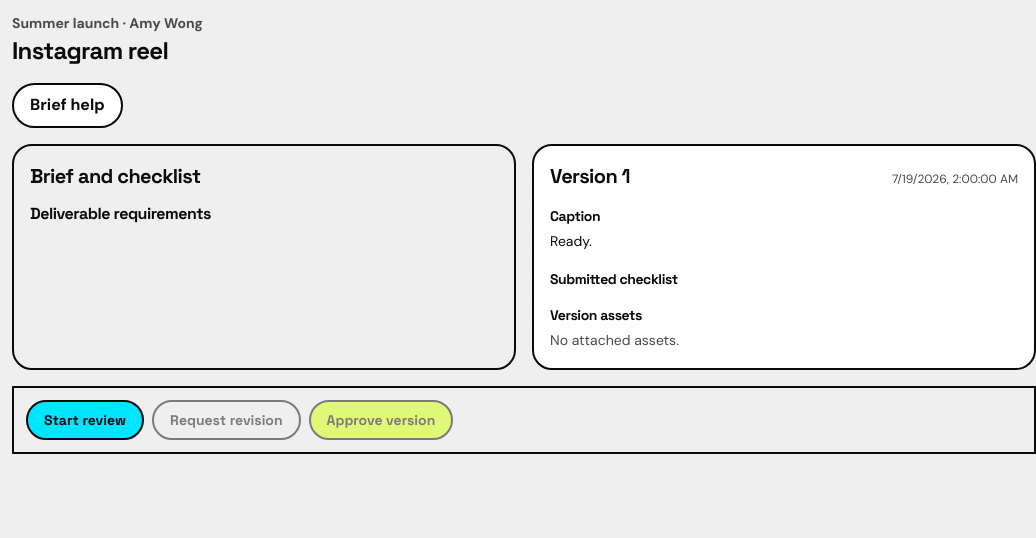
Test: admin active missions route › binds detail actions and routes auth failures through the admin auth context
Expected: the heading "Instagram reel" is shown, [12,35,168,66]
What coordinates should you click on to do the following:
click the button "Start review"
I would click on:
 (85, 420)
Its box is [26,400,144,440].
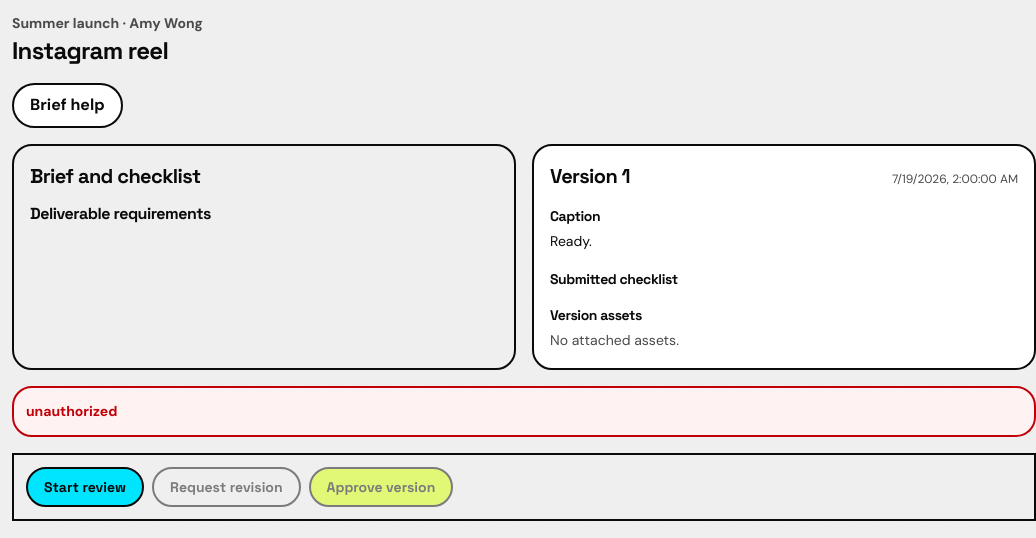
Expected: the message reads "unauthorized", [26,402,117,420]
